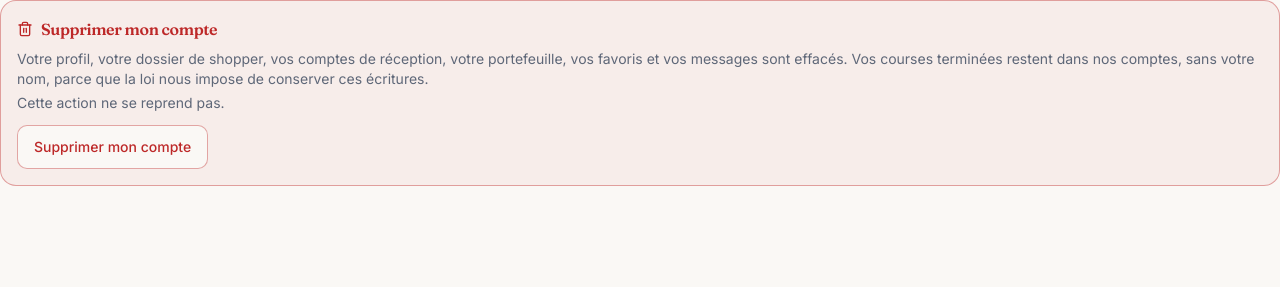
Scenario: carte de suppression de compte › n'ouvre le geste qu'une fois le mot écrit
Step 1. Click the button "Supprimer mon compte" → x=113, y=147, box [17,125,208,169]
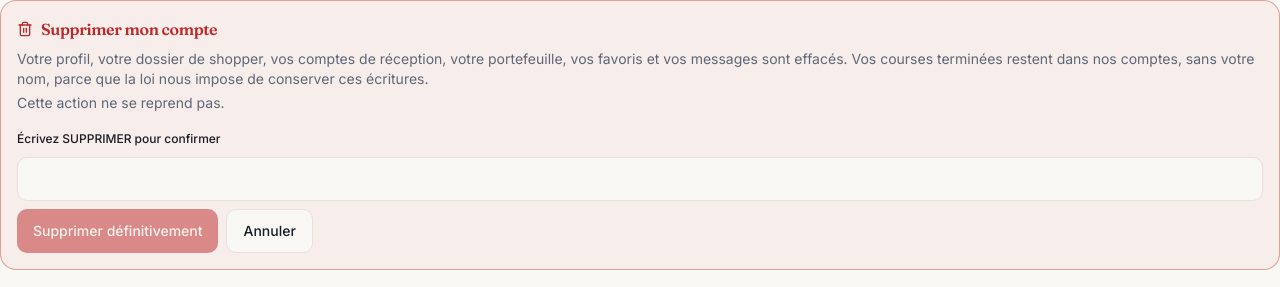
Step 2. Type "SUPPRIMER" into the field labelled "Écrivez SUPPRIMER pour confirmer" → x=640, y=179, box [17,157,1263,201]
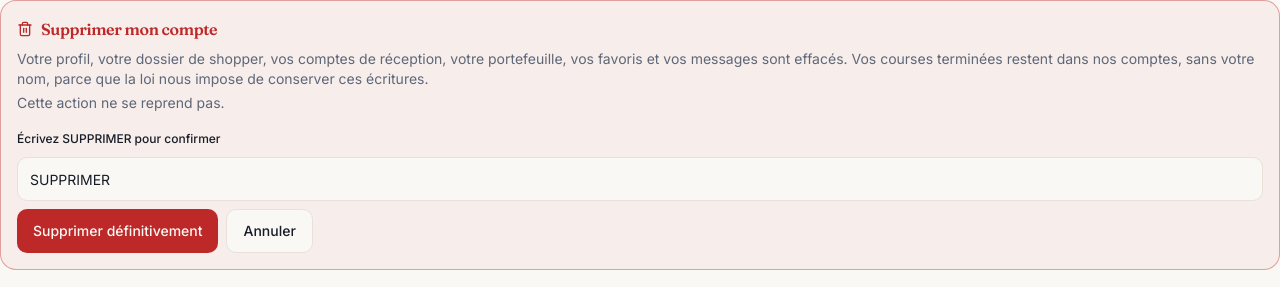
Expected: the button "Supprimer définitivement" is enabled, [17,209,218,253]
